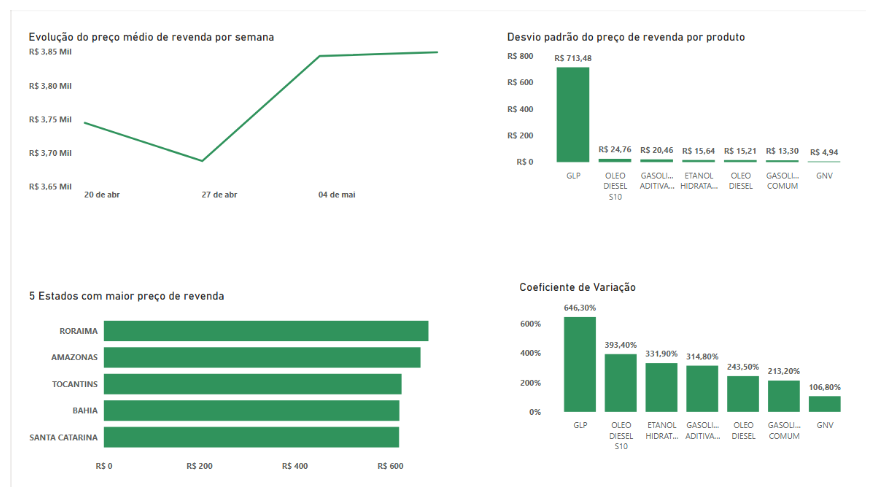

This screenshot's page, from the dashboard's own definition file:
{"tool":"powerbi","page":{"name":"Página 1","canvas":[1280,720],"ordinal":0},"visuals":[{"type":"lineChart","title":"Evolução do preço médio de revenda por semana","fields":{"Y":["Sum(Consulta1.preco_medio_revenda)"],"Category":["Consulta1.data_final"]},"box":[20.7,31.6,648.2,264.7],"z":0},{"type":"barChart","title":"5 Estados com maior preço de revenda","fields":{"Category":["Consulta1.estado"],"Y":["Sum(Consulta1.preco_medio_revenda)"]},"box":[20.7,418.3,640.5,283.2],"z":1},{"type":"clusteredColumnChart","title":"Desvio padrão do preço de revenda por produto","fields":{"Category":["Consulta1.produto"],"Y":["Sum(Consulta1.desvio_padrao_revenda)"]},"box":[735.3,31.6,533.8,264.7],"z":2},{"type":"clusteredColumnChart","title":"Coeficiente de Variação","fields":{"Category":["Consulta1.produto"],"Y":["Sum(Consulta1.coef_de_variacao_revenda)"]},"box":[754,405,515,264],"z":3}]}

Visuals, with their boxes in screenshot pixels (x1, y1, x2, y2), scaled from the page's 1280x720 canvas onto the 876x497 screenshot:
"Evolução do preço médio de revenda por semana" lineChart: (14, 22, 458, 205)
"5 Estados com maior preço de revenda" barChart: (14, 289, 453, 484)
"Desvio padrão do preço de revenda por produto" clusteredColumnChart: (503, 22, 869, 205)
"Coeficiente de Variação" clusteredColumnChart: (516, 280, 868, 462)
